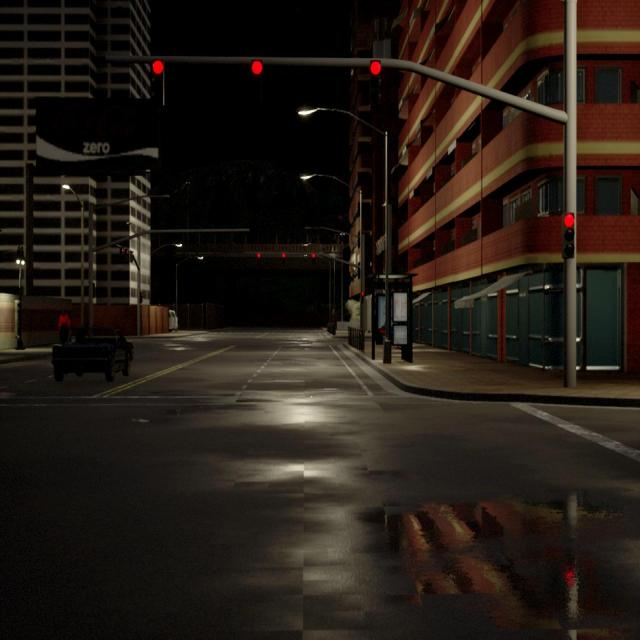Pedestrian: (59, 309, 70, 344)
Vehicle: (52, 328, 133, 382), (169, 309, 178, 332)
traffic_light: (562, 209, 575, 262), (152, 59, 165, 99), (370, 60, 382, 102), (251, 59, 263, 95), (120, 247, 124, 259), (140, 292, 144, 304), (130, 252, 134, 262), (361, 292, 364, 303), (125, 250, 128, 260), (256, 252, 260, 258), (282, 253, 286, 259), (312, 253, 316, 259)
